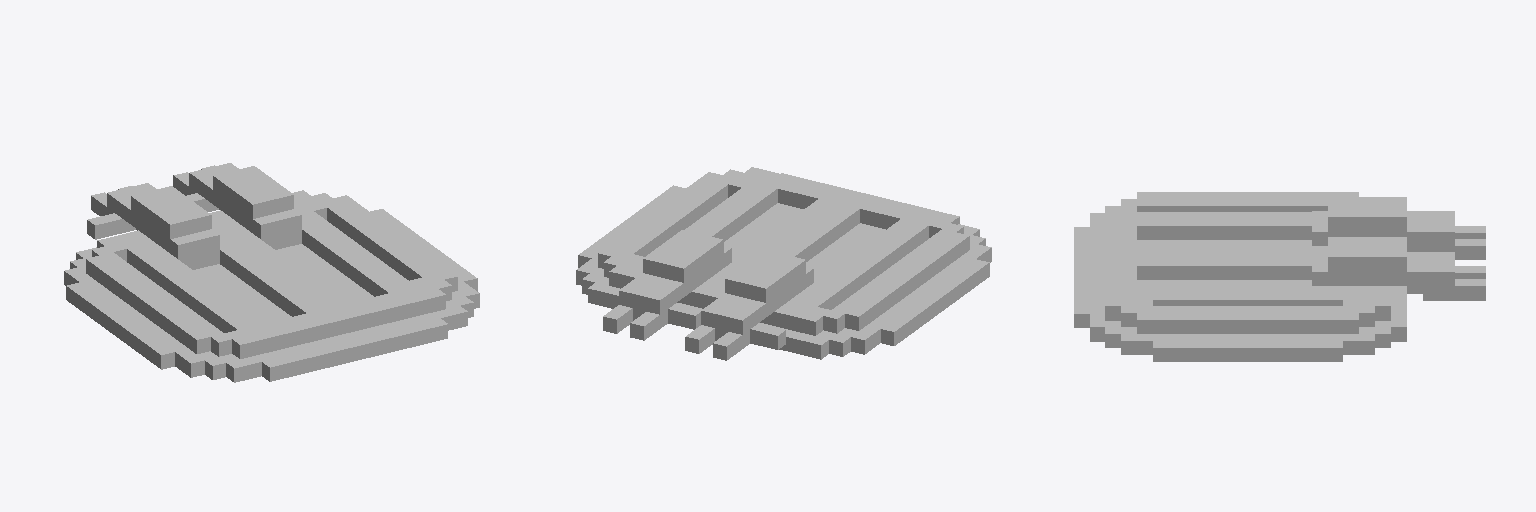
File: sludge monster.obj
3 views of the same model, side by side, from view 1: azimuth 30°, elevation 25°; view 2: azimuth 150°, elevation 25°; view 3: azimuth 270°, elevation 25° (orthographic).
Parts seen in each view (by area): view 1: object 1; view 2: object 1; view 3: object 1.
Part boxes in pixels (x1,y1,x2,y2): object 1: (64, 163, 479, 382); object 1: (576, 167, 991, 360); object 1: (1074, 192, 1485, 361).
Size of the model in its own units: 2.3 by 0.4 by 2.6.